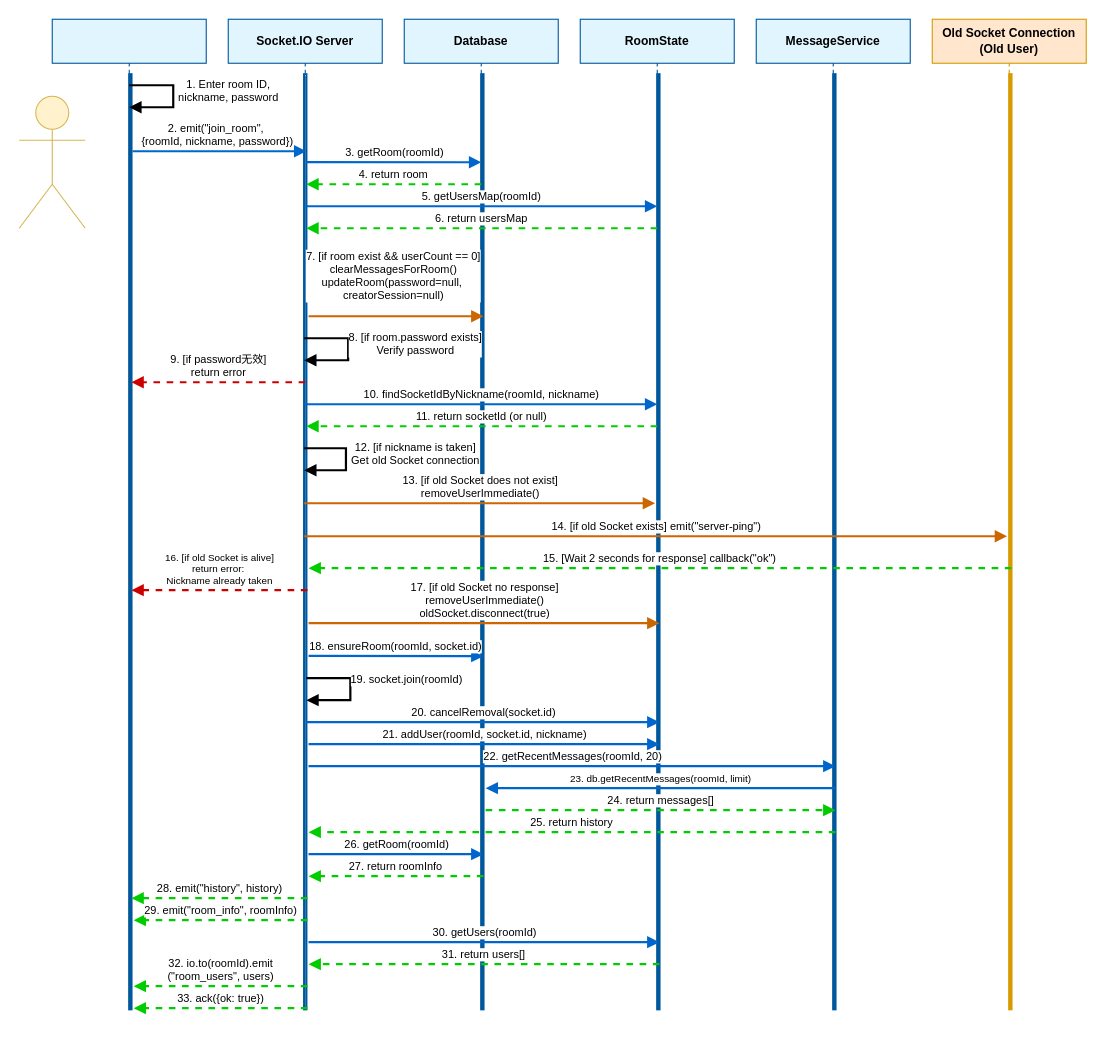
The diagram is 1106 pixels wide and 1037 high, and some of its shapes have lost their labels. The box of each missing label's shape, as (x1, y1, x2, y2) in pixels:
Browser Client: (51, 18, 206, 74)
User: (18, 95, 85, 228)
